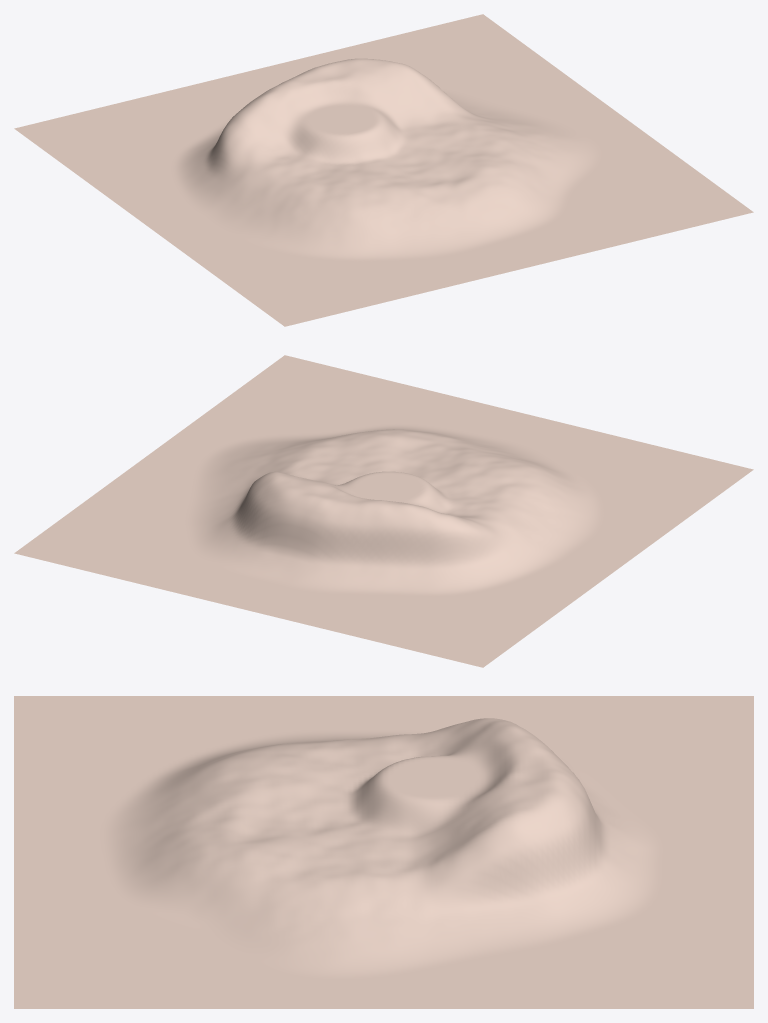
The model's file is ile_terrain.glb.
3 renders of one model, top to bottom at view 1: azimuth 30°, elevation 25°; view 2: azimuth 150°, elevation 25°; view 3: azimuth 270°, elevation 25°, orthographic. The views are drawn at different scales.
Parts seen in each view (by area): view 1: Terrain; view 2: Terrain; view 3: Terrain.
Part boxes in pixels (bbox=[...]): Terrain: bbox=[14, 14, 753, 326]; Terrain: bbox=[14, 355, 753, 667]; Terrain: bbox=[14, 696, 753, 1008].
Bounding box in the file's own units: 120 × 14.2 × 120.
